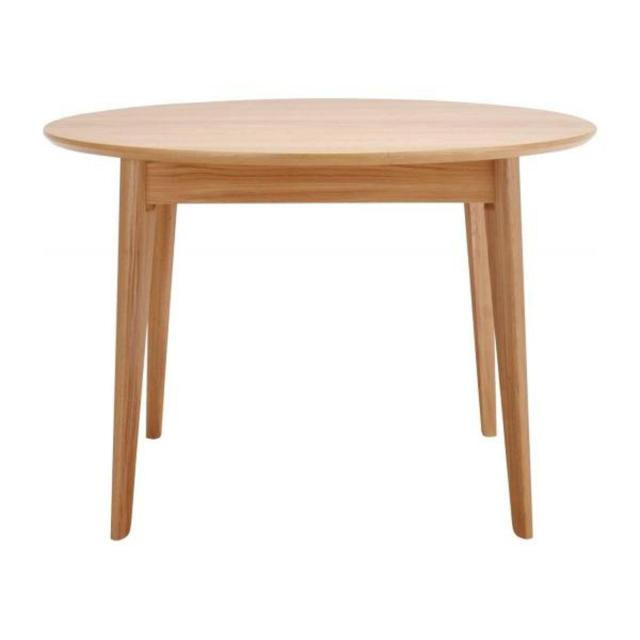table: (39, 76, 611, 547)
